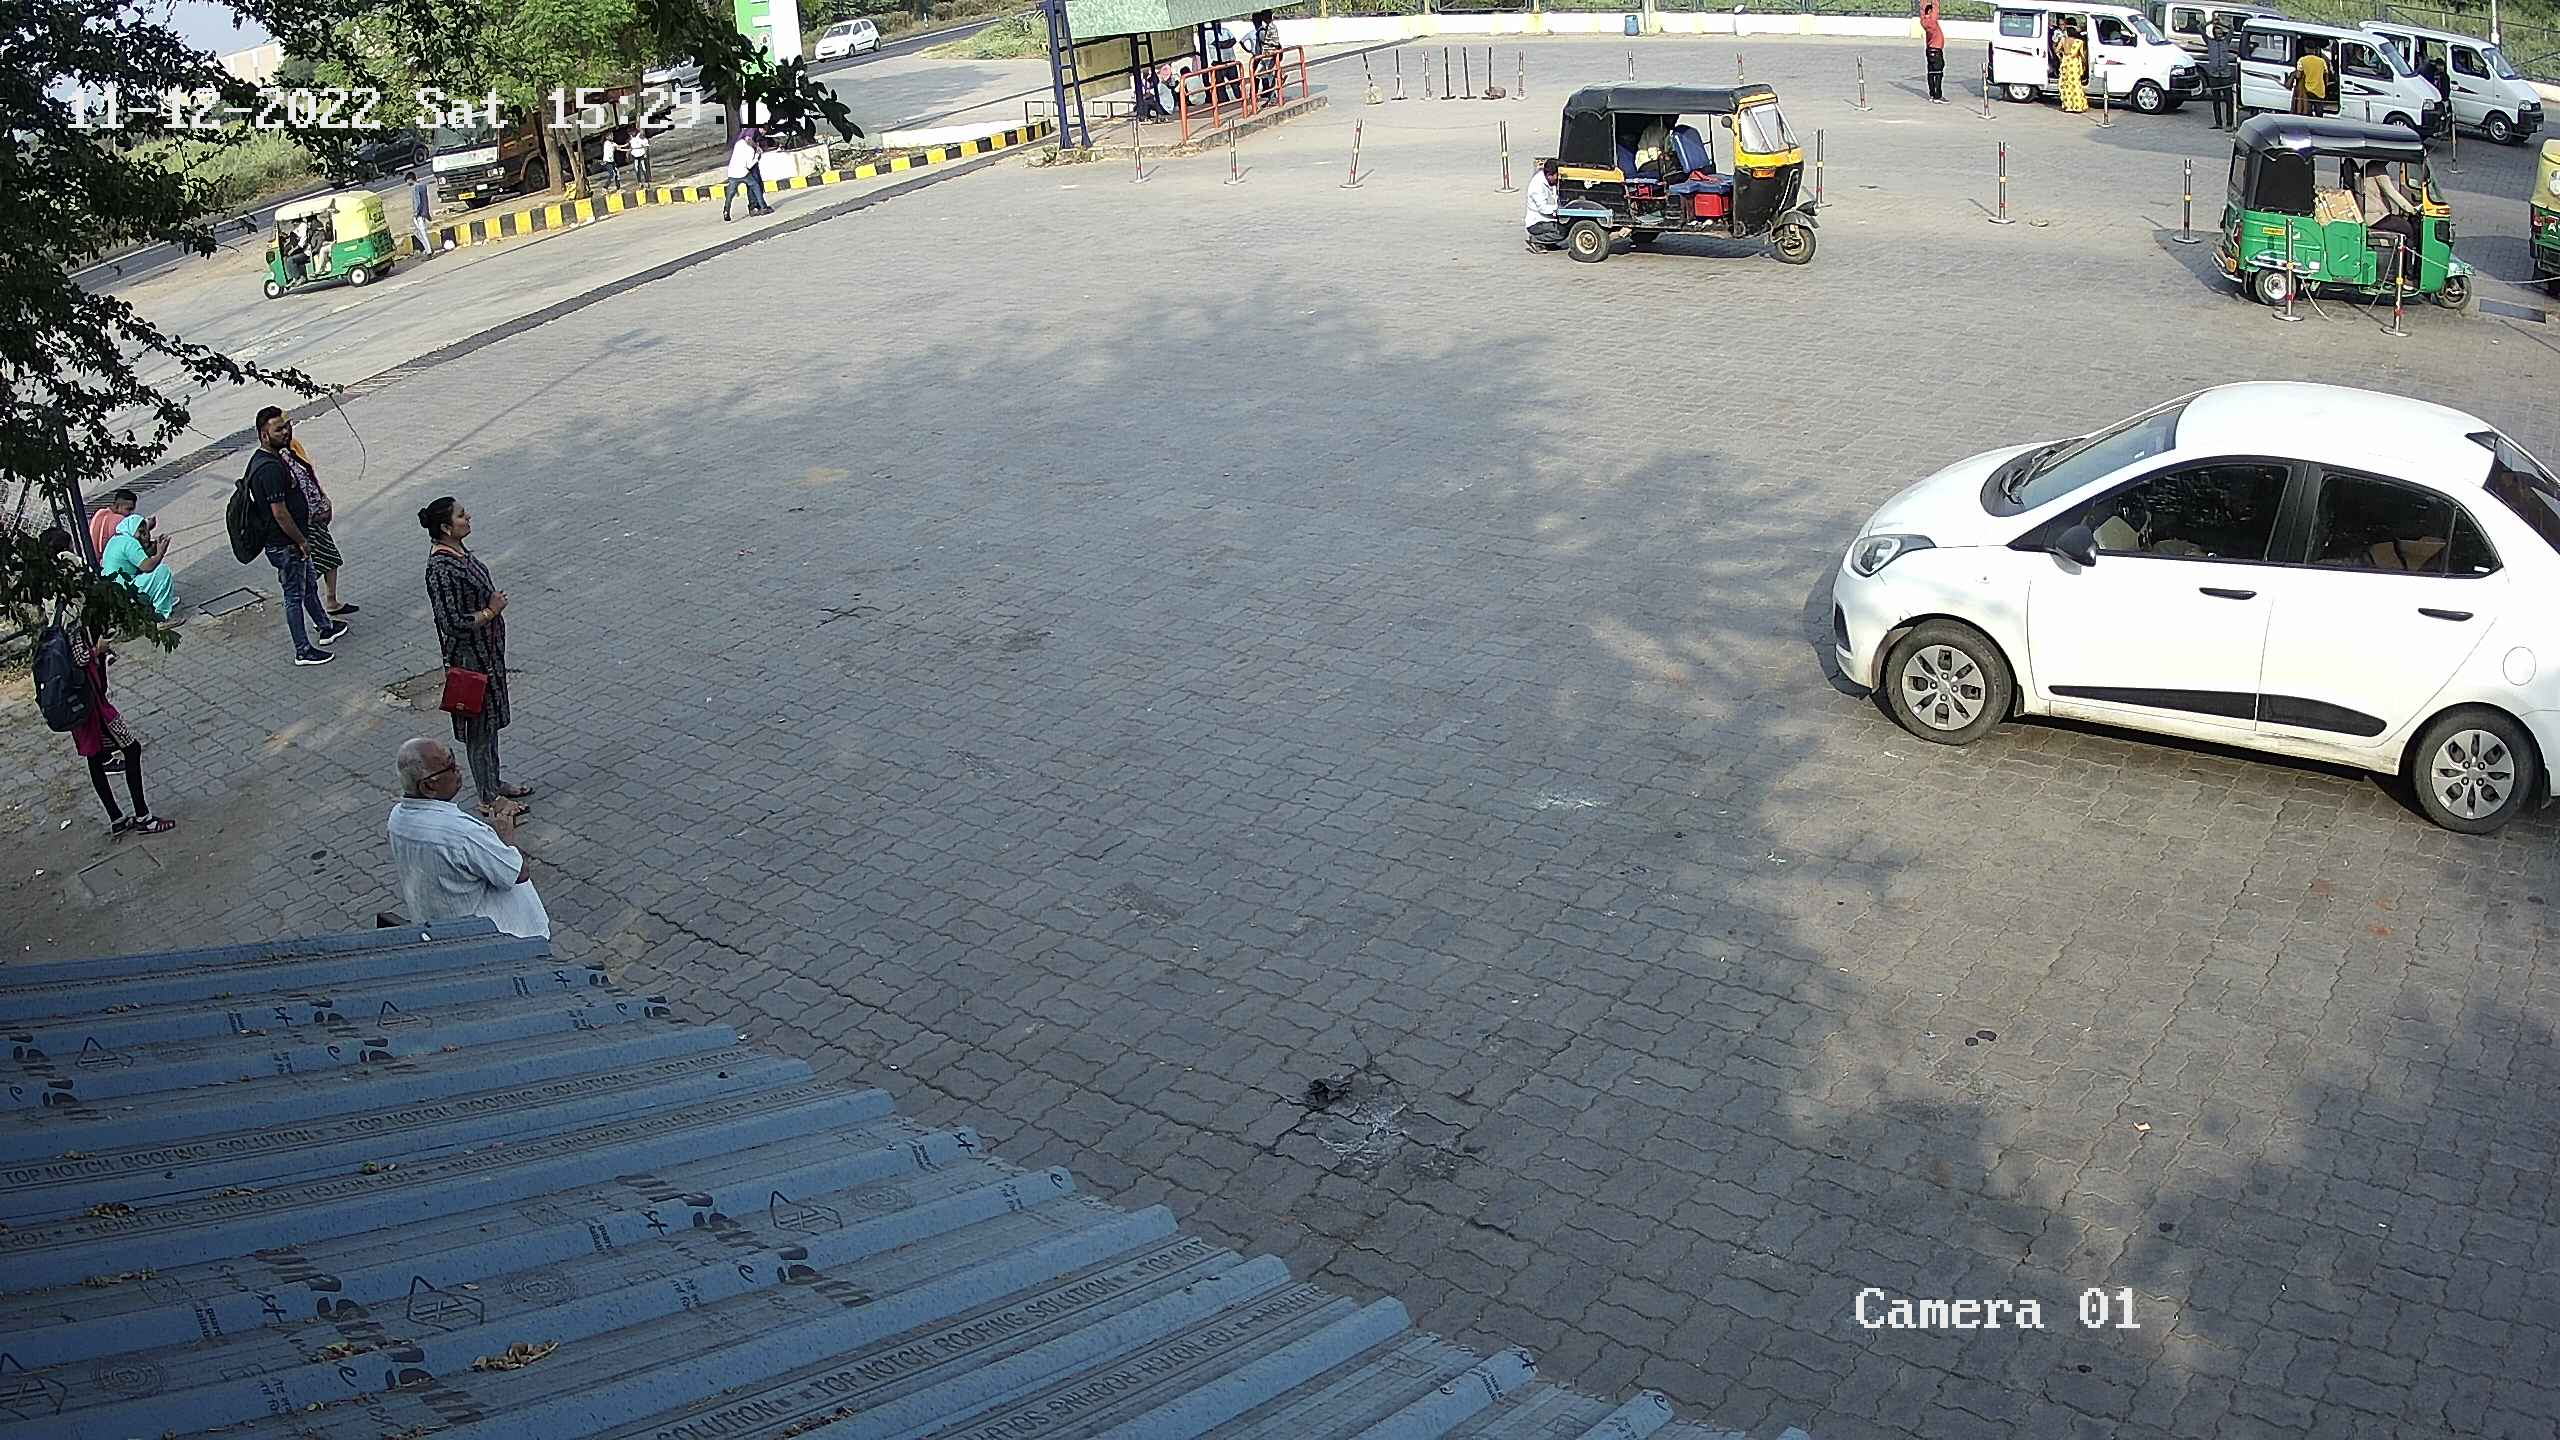Auto: (1524, 69, 1839, 278), (2201, 98, 2490, 324), (244, 179, 403, 301), (2507, 125, 2558, 309)
Bike: (733, 46, 865, 160)
Car: (1823, 371, 2558, 851), (2228, 2, 2453, 148), (1980, 0, 2214, 120), (2347, 12, 2549, 149), (2140, 2, 2295, 105), (802, 11, 883, 63)
HMV: (420, 69, 554, 213)
